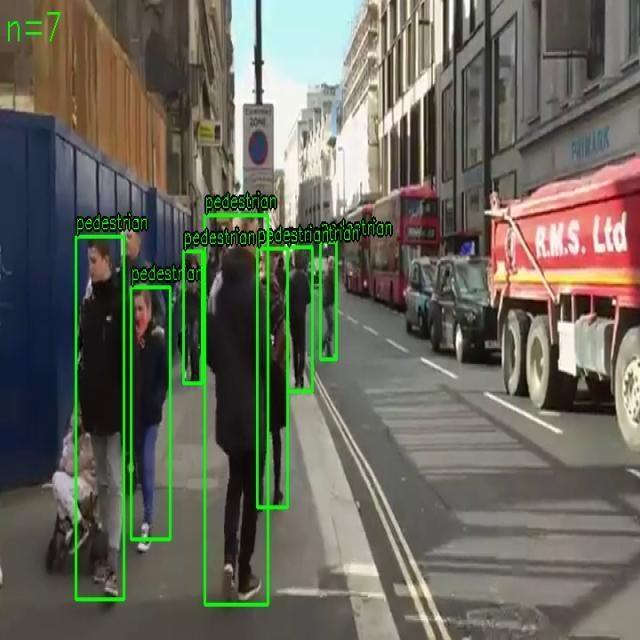person: (204, 214, 268, 606), (76, 236, 124, 600), (130, 286, 170, 540), (257, 248, 288, 508), (287, 246, 313, 392), (183, 250, 203, 384), (320, 241, 337, 360)
